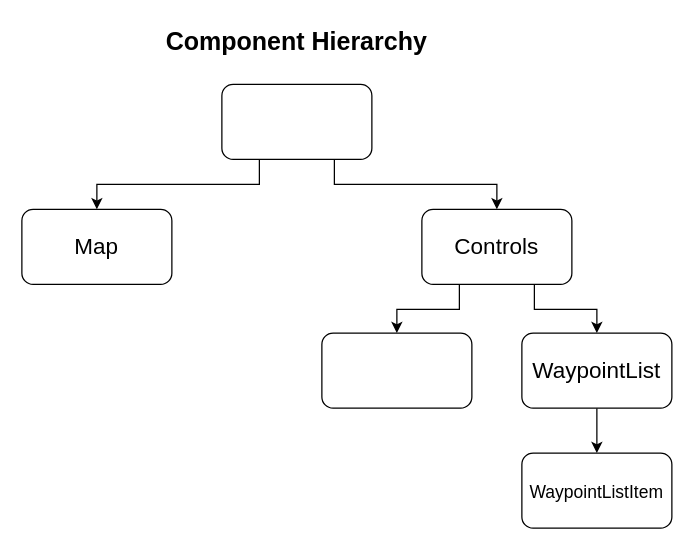
The diagram is 694 pixels wide and 550 high, and some of its shapes have lost their labels. The box of each missing label's shape, as (x1, y1, x2, y2) in pixels:
App: (221, 83, 372, 159)
TotalDistance: (321, 332, 472, 408)
